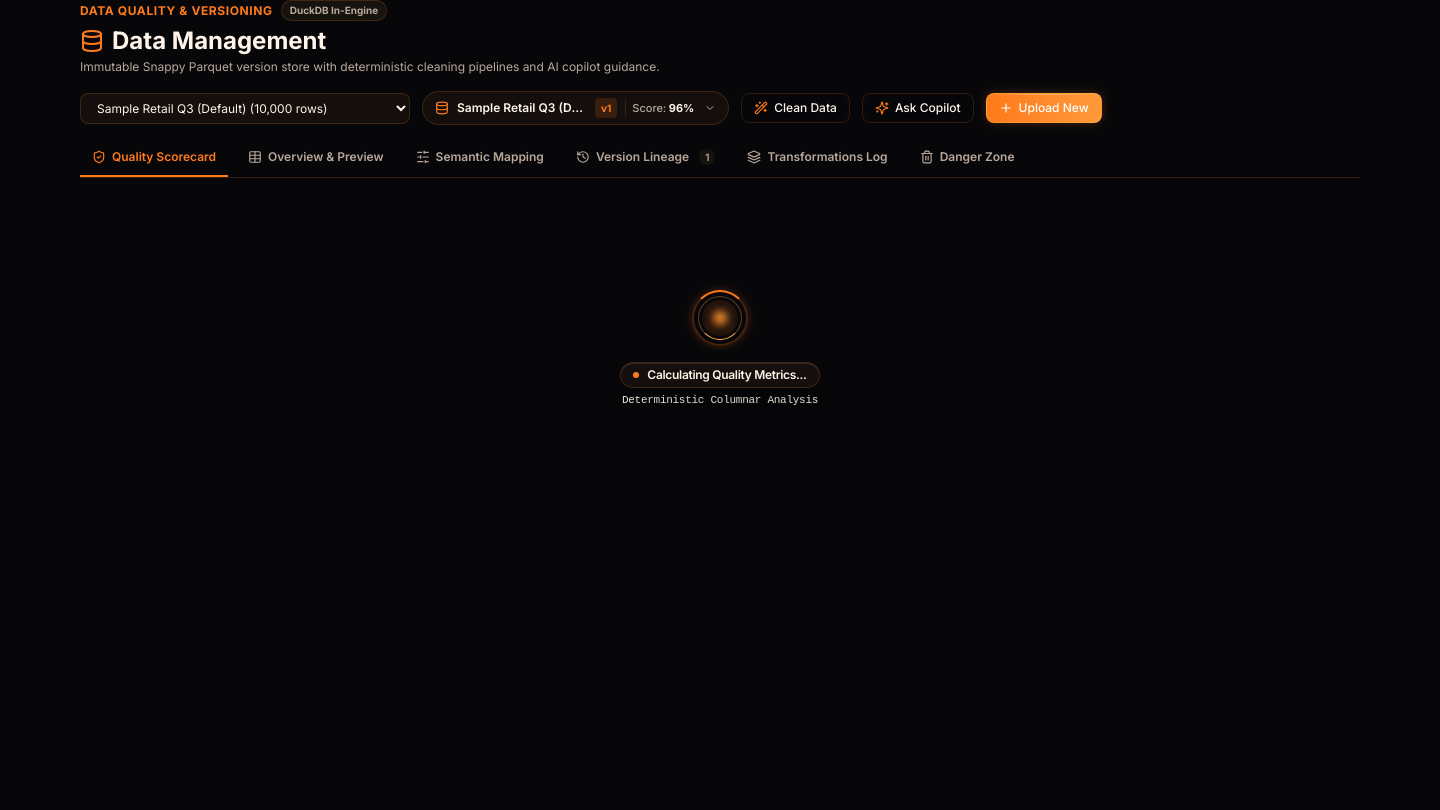
Scenario: Data Management Page Verification (Phase 6) › opens Clean Data modal with transformation selection when clicked
Click the button "Clean Data": (796, 108) [741, 93, 850, 123]
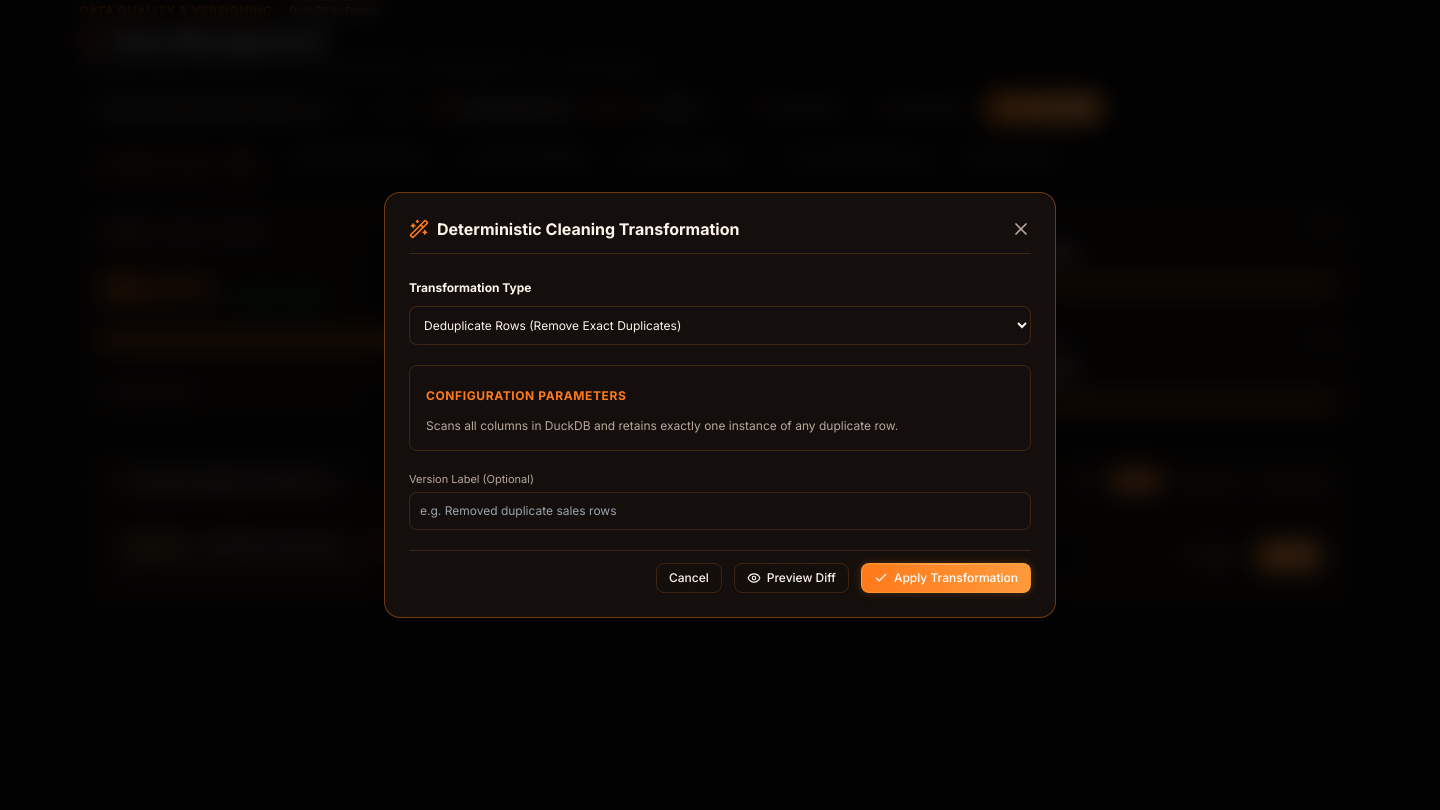
Now the heading "Deterministic Cleaning Transformation" is shown, box [437, 217, 740, 241]
Now the text "Preview Diff" is shown, box [767, 570, 836, 586]
Now the text "Apply Transformation" is shown, box [894, 570, 1018, 586]
